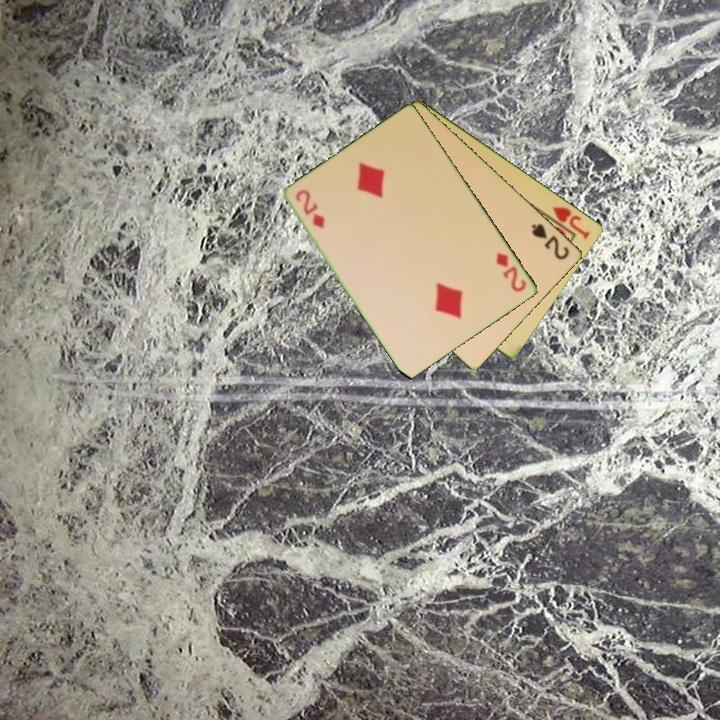2d: (493, 249, 530, 295), (292, 186, 328, 232)
2s: (528, 220, 573, 263)
Jh: (541, 203, 593, 242)
